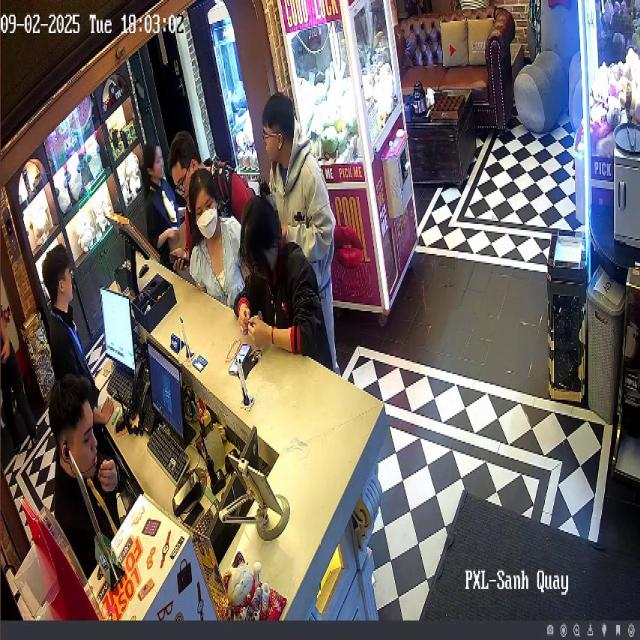khach: (256, 92, 348, 372), (237, 188, 334, 376), (166, 112, 255, 276), (187, 158, 249, 320)
nhan vien: (39, 361, 122, 607), (37, 232, 97, 415), (123, 125, 181, 249)
